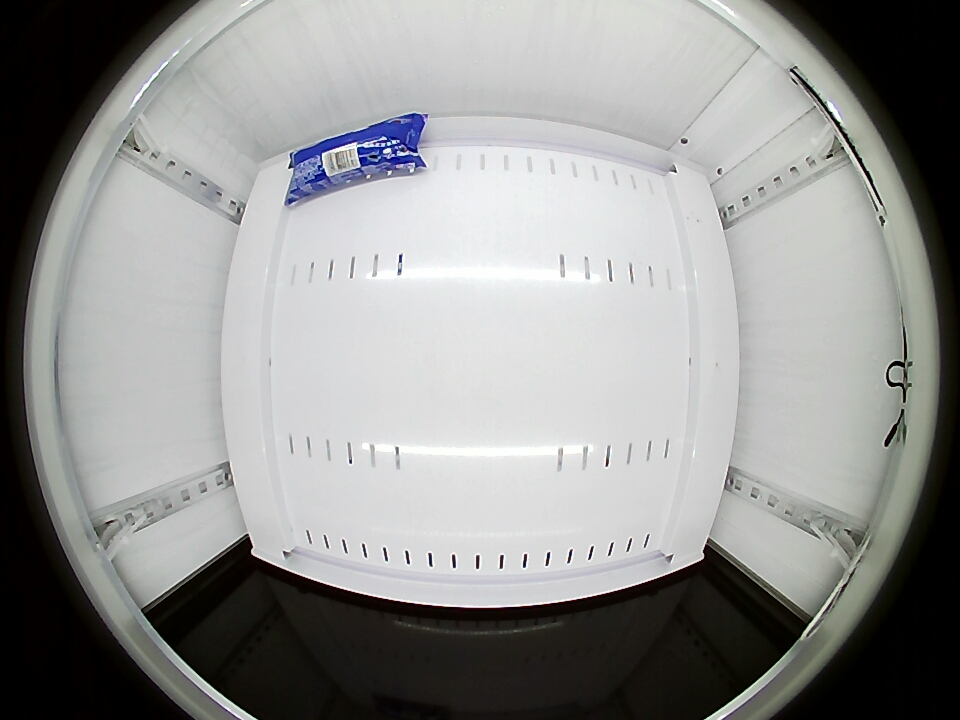aoliao: (286, 116, 423, 194)
